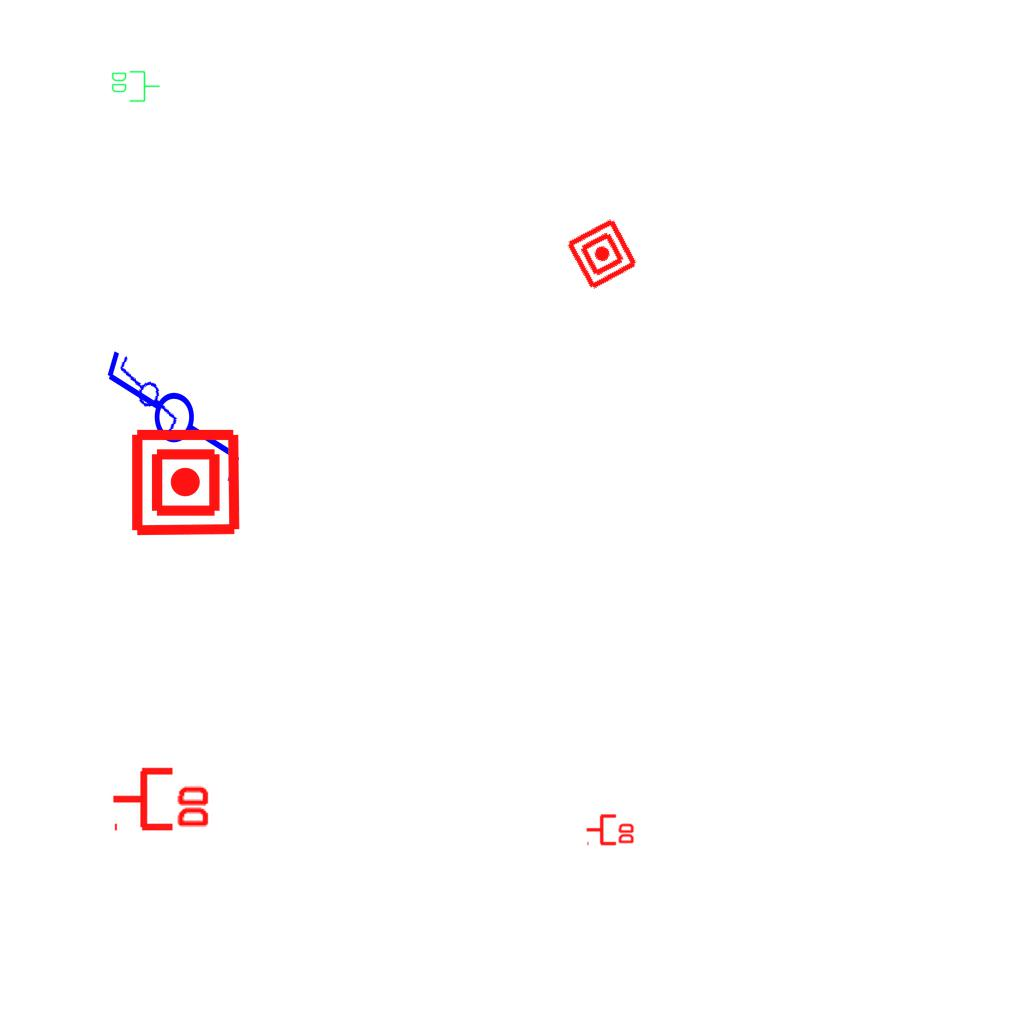Datenanschluss_zweifach: (110, 763, 213, 832), (110, 69, 161, 103), (585, 812, 636, 846)
NAM-Nichtautomatischer_Melder: (129, 426, 242, 539), (564, 216, 640, 292)
Wechselschalter: (100, 347, 244, 504), (104, 352, 190, 444)
